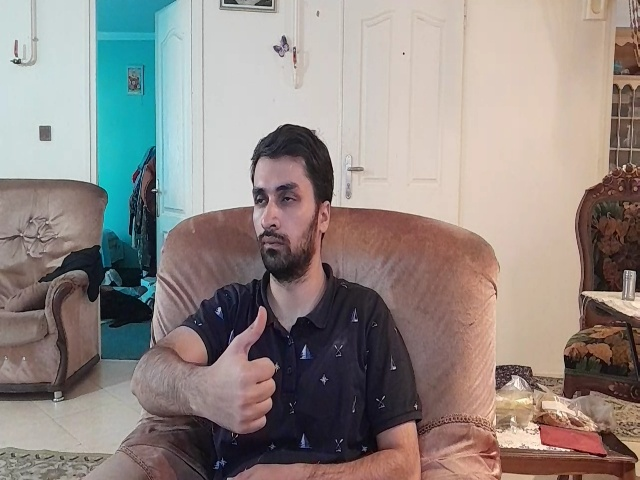ThumbsUp: (197, 303, 275, 435)
